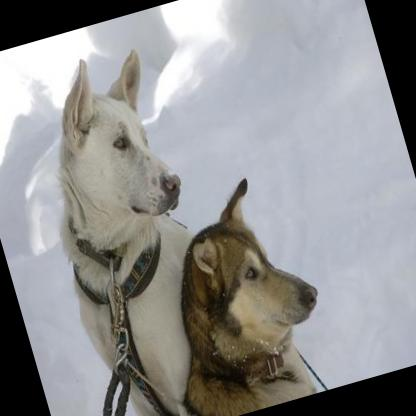Eskimo_dog: (7, 37, 245, 416), (96, 166, 342, 416)
